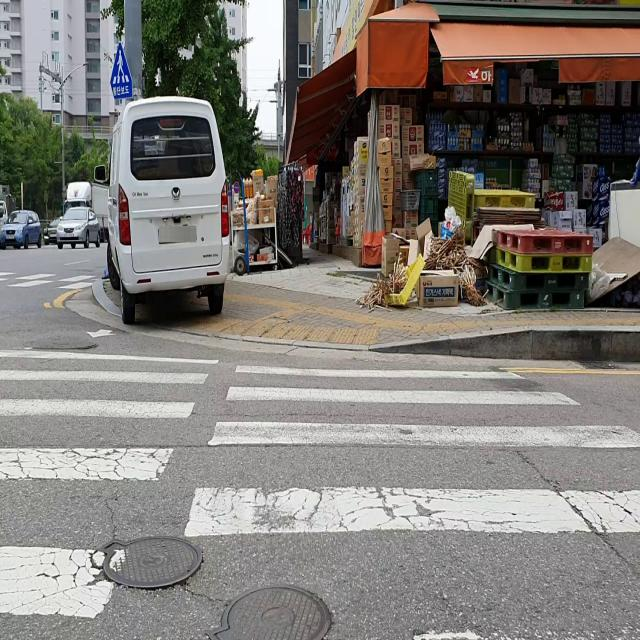횡단보도: (2, 325, 638, 636)
